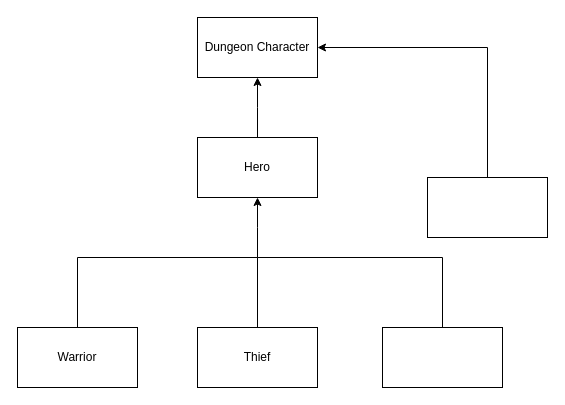
This 565x405 diagram has some shape labels left out. The shapes that lost their labels are listed below. From the top down, each one's box as (x1, y1, x2, y2) in pixels, then its label:
(426, 176, 548, 238): Monster
(382, 326, 502, 388): Priestess
